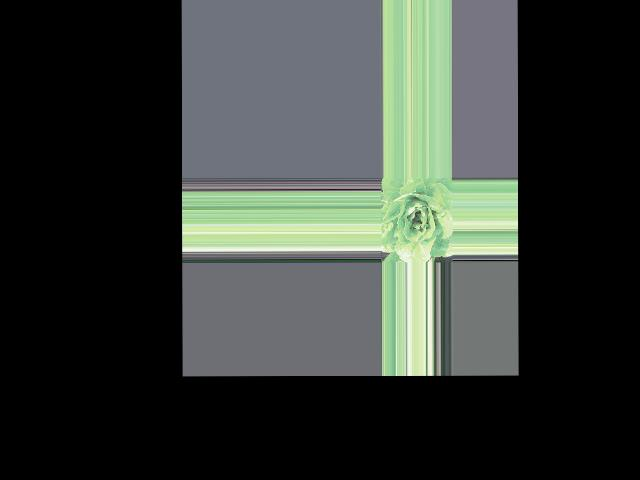lettuce: (380, 178, 450, 258)
